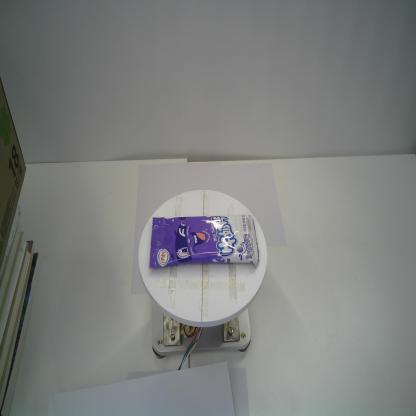Candy: (148, 214, 260, 270)
